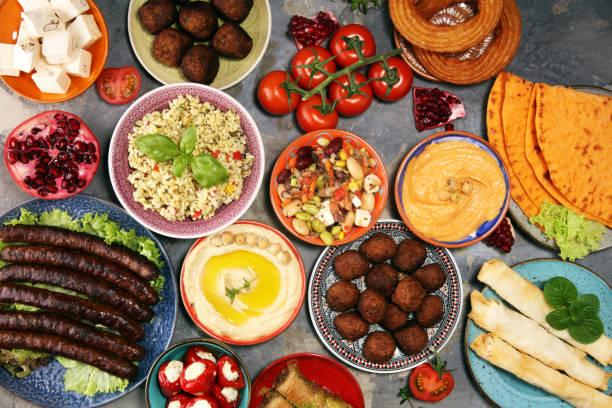Braised Crucian Carp: (2, 193, 176, 407), (108, 82, 260, 238), (307, 222, 461, 374), (464, 253, 609, 404), (179, 222, 302, 347), (126, 0, 273, 94), (268, 129, 383, 246), (394, 130, 506, 247), (2, 0, 109, 104)
